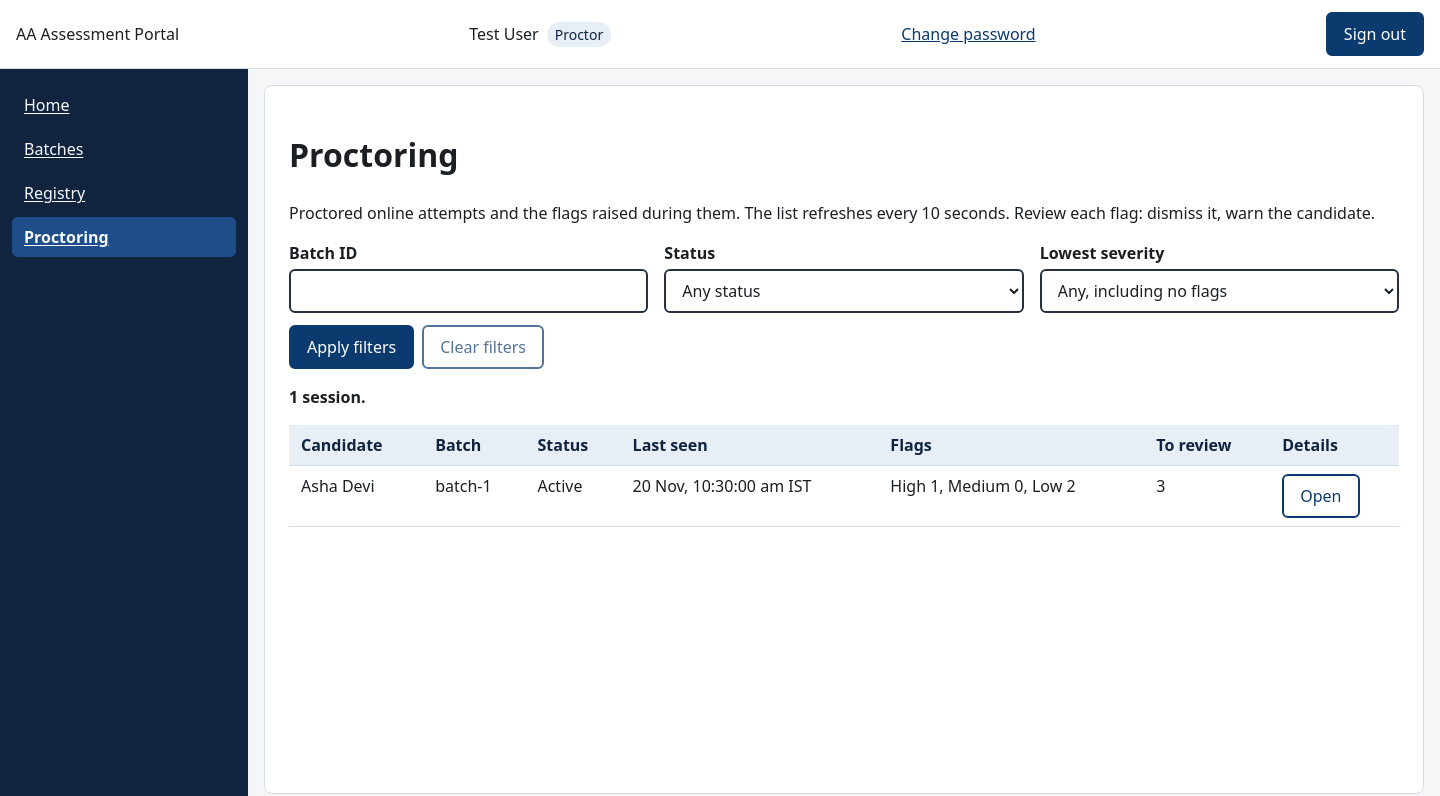
Test: opens a larger photo in a dialog with alt text, closes on Escape and returns focus
Click the button with aria-label "Open session of Asha Devi" at (1321, 496), box x1=1282 y1=474 x2=1360 y2=518
(page scrolled)
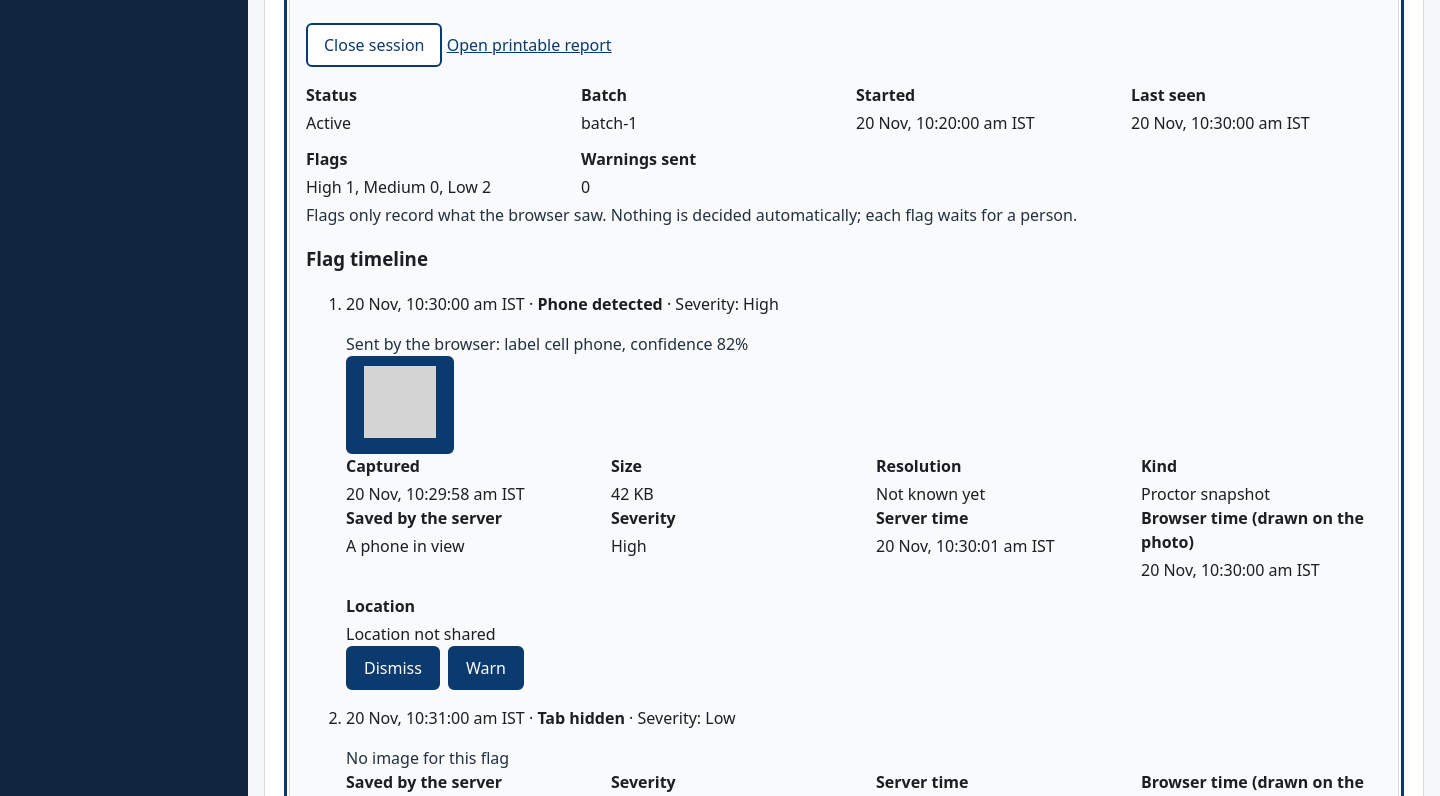
Click the button named "Enlarge photo: Phone detected at" at (400, 405), box x1=346 y1=356 x2=454 y2=454
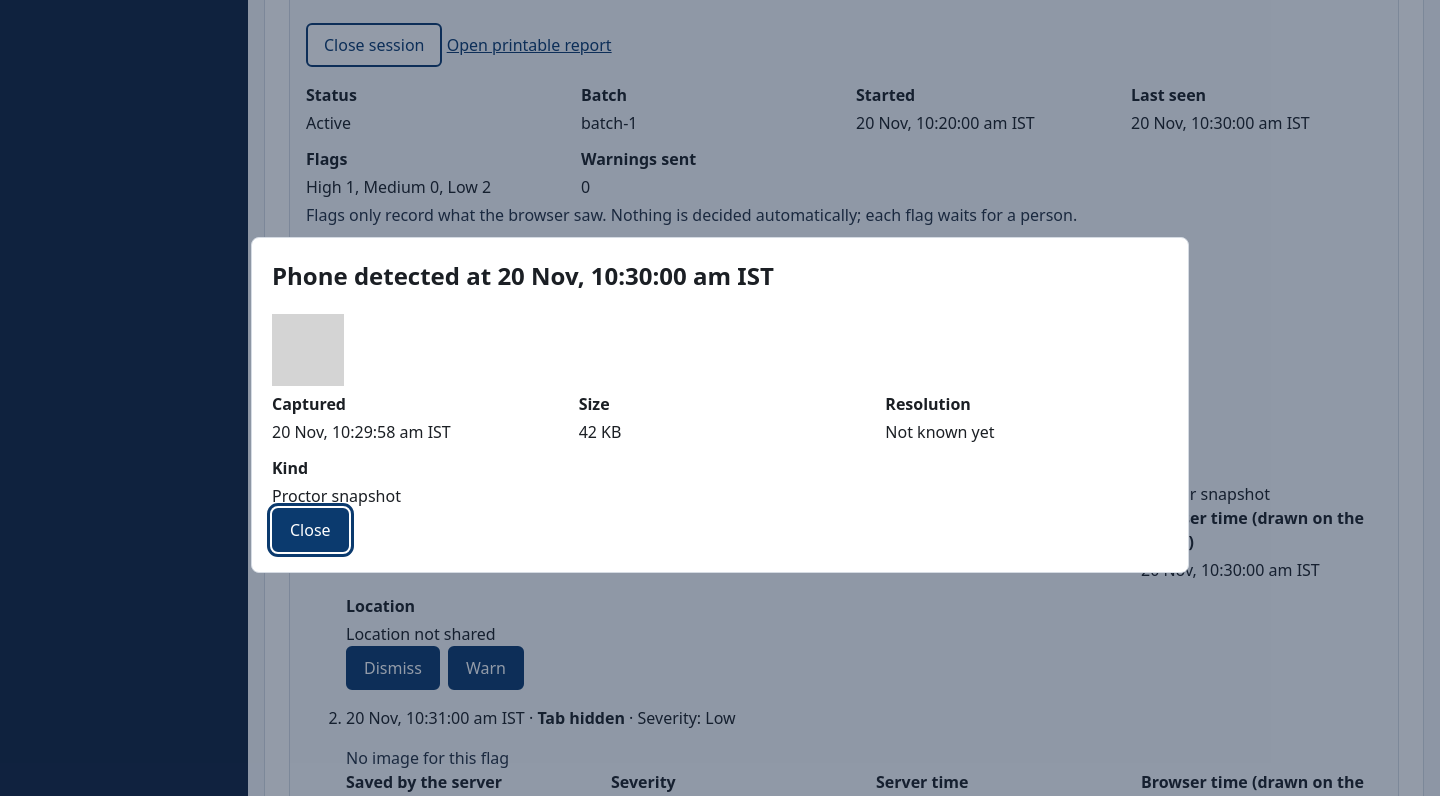
Now the text "Proctor snapshot" is shown, box x1=272 y1=485 x2=401 y2=507
Press Escape
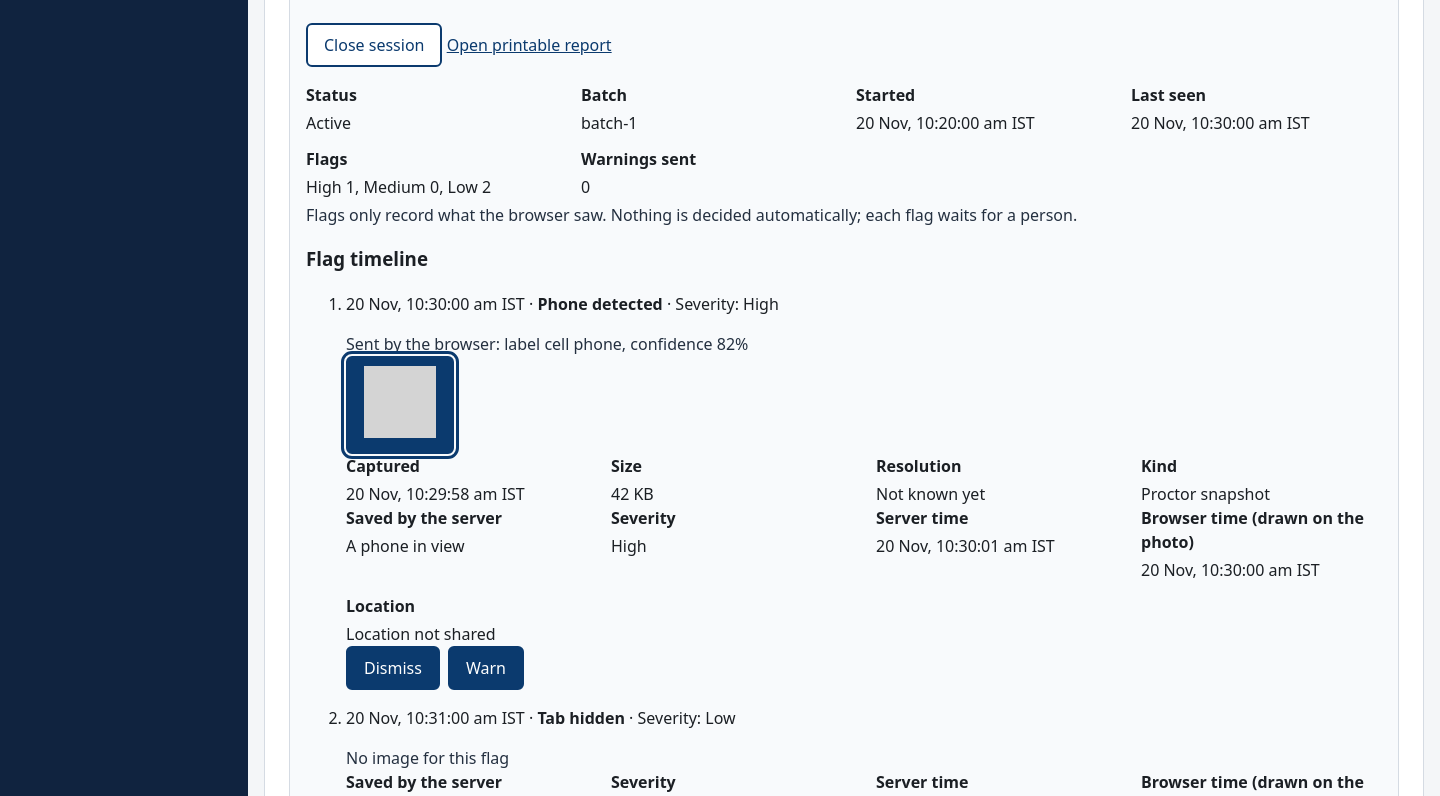
Now the dialog is gone
Click the button named "Enlarge photo: Phone detected at" at (400, 405), box x1=346 y1=356 x2=454 y2=454
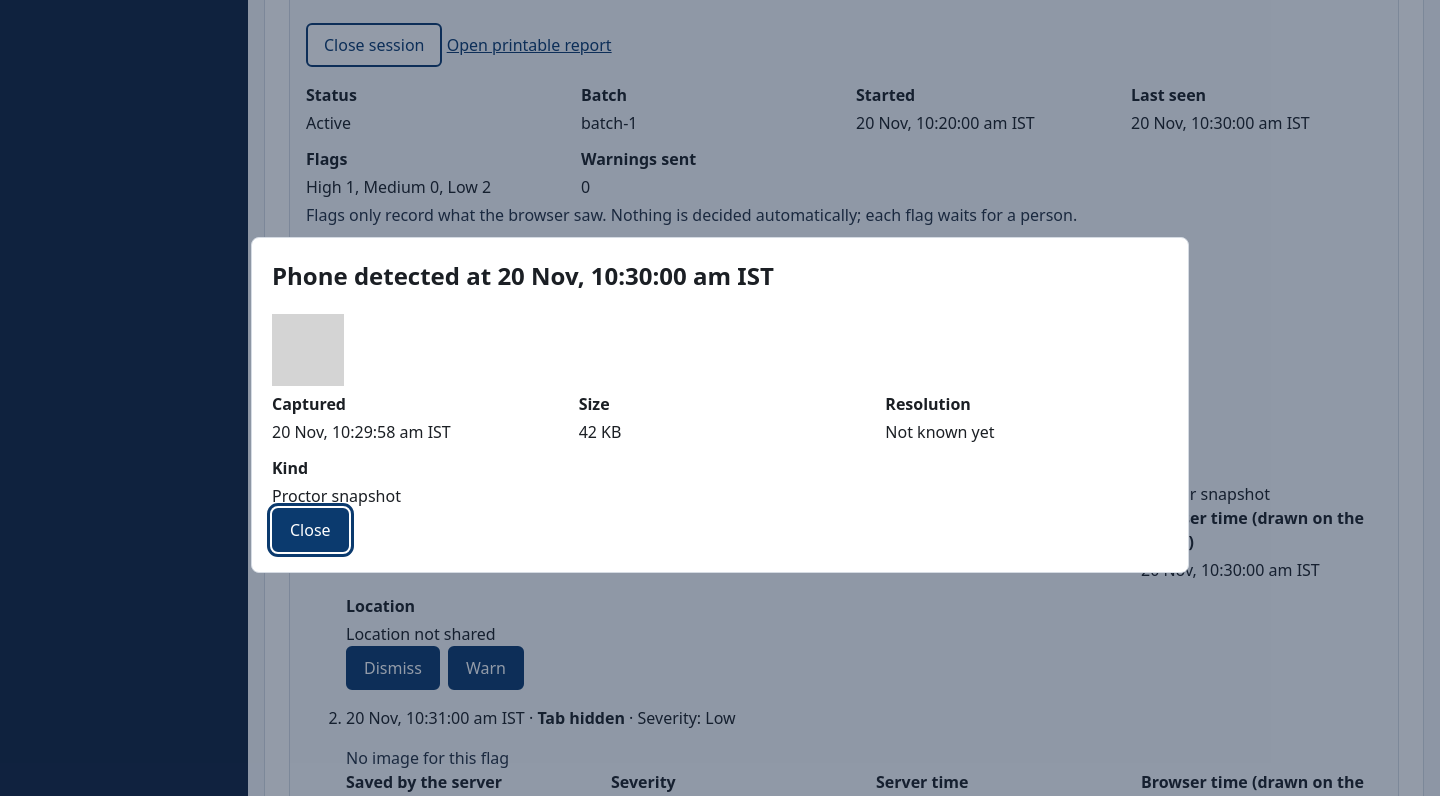
Click the button "Close" at (310, 530), box x1=272 y1=508 x2=349 y2=552
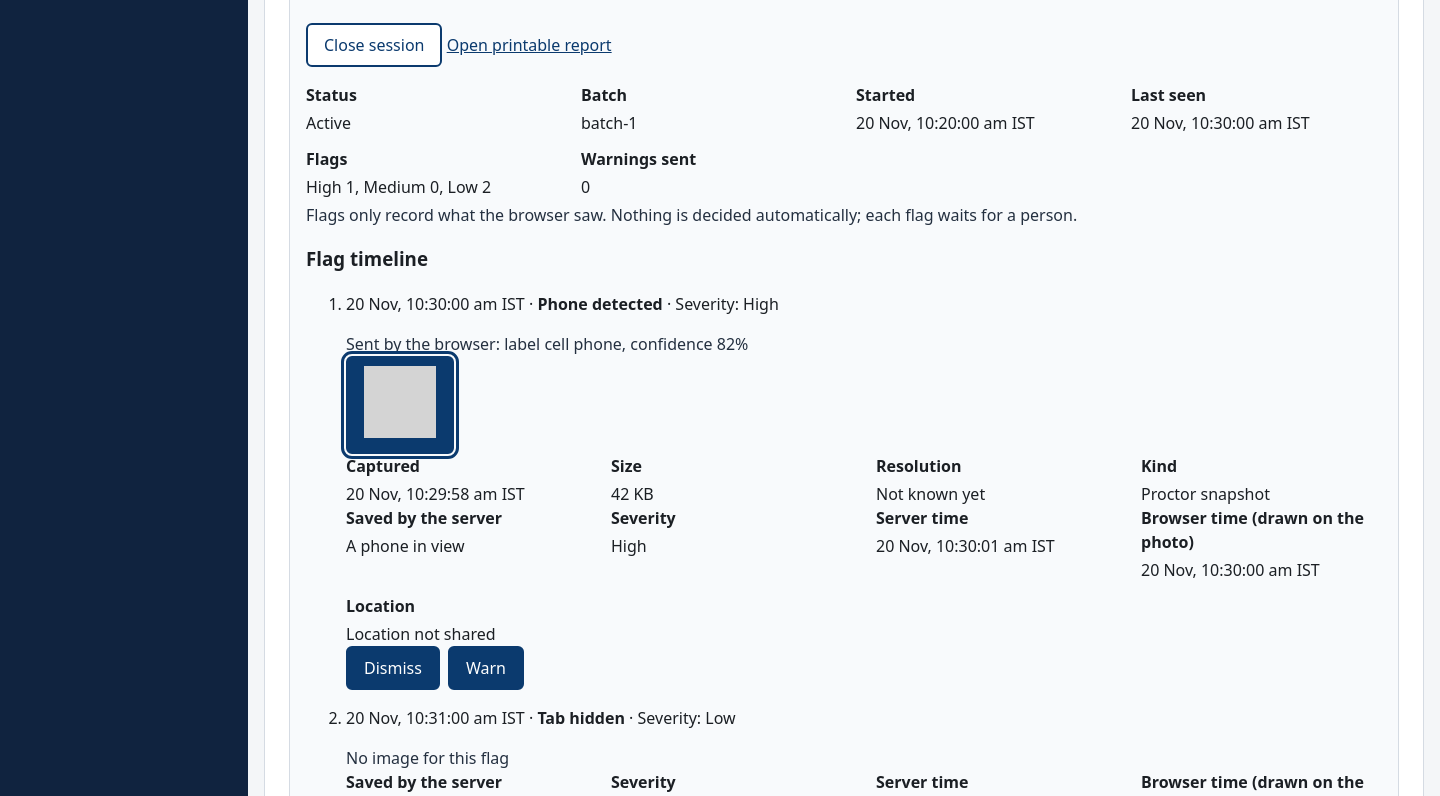
Now the dialog is gone
